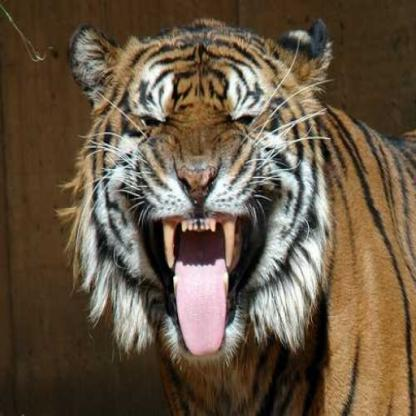Tiger: (60, 15, 415, 416)
